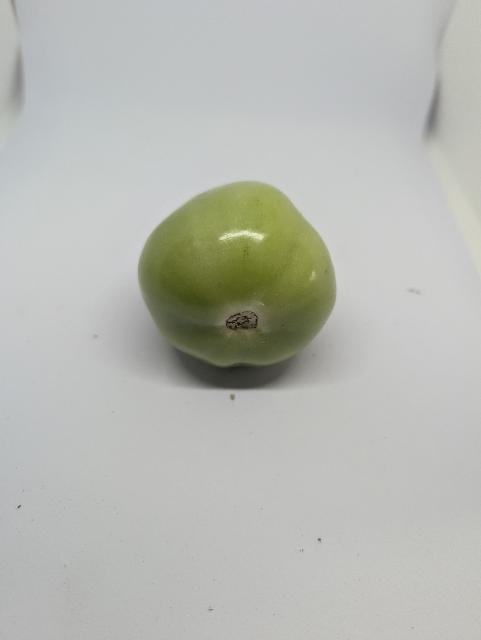green: (122, 170, 347, 381)
